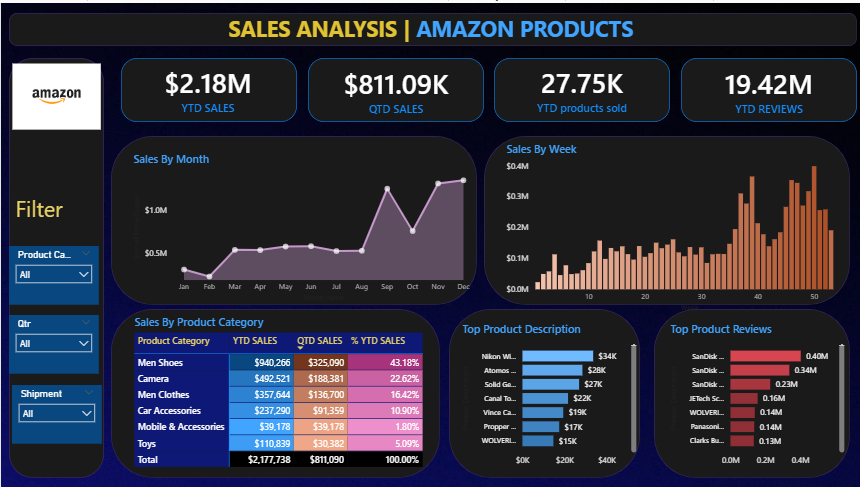

The page's visual inventory and layout, read from the dashboard file:
{"tool":"powerbi","page":{"name":"Page 1","canvas":[1280,720],"ordinal":0},"visuals":[{"type":"shape","box":[11.9,14.8,1256.3,48.9],"z":0},{"type":"textbox","box":[331.9,10.4,614.8,59.3],"z":1000},{"type":"shape","box":[11.9,81.5,140.7,622.2],"z":2000},{"type":"shape","box":[177.8,81.5,260.7,94.8],"z":3000},{"type":"card","fields":{"Values":["Amazon_Data.YTD SALES"]},"box":[176.3,80,260.7,94.8],"z":4000},{"type":"shape","box":[454.3,81.5,260.7,94.8],"z":5000},{"type":"card","fields":{"Values":["Amazon_Data.QTD SALES"]},"box":[454.8,81.5,260.7,94.8],"z":6000},{"type":"shape","box":[1007.4,81.5,260.7,94.8],"z":7000},{"type":"shape","box":[730.9,81.5,260.7,94.8],"z":8000},{"type":"card","fields":{"Values":["Amazon_Data.YTD products sold"]},"box":[730.4,80,260.7,94.8],"z":9000},{"type":"card","fields":{"Values":["Amazon_Data.YTD REVIEWS"]},"box":[1007.4,81.5,260.7,94.8],"z":10000},{"type":"shape","box":[163,197,542.2,250.4],"z":11000},{"type":"areaChart","title":"Sales By Month","fields":{"Category":["Date Table.Month name"],"Y":["Sum(Amazon_Data.Price(Dollar))"]},"box":[191.1,220.7,514.1,226.7],"z":12000},{"type":"shape","box":[715.6,197,542.2,250.4],"z":13000},{"type":"columnChart","title":"Sales By Week","fields":{"Y":["Sum(Amazon_Data.Price(Dollar))"],"Category":["Date Table.Week"]},"box":[743.7,205.9,514.1,256.3],"z":14000},{"type":"shape","box":[163,453.3,487.4,250.4],"z":15000},{"type":"pivotTable","title":"Sales By Product Category","fields":{"Rows":["Amazon_Data.Product Category"],"Values":["Amazon_Data.YTD SALES","Amazon_Data.QTD SALES","Divide(Amazon_Data.YTD SALES, ScopedEval(Amazon_Data.YTD SALES, []))"]},"box":[192.6,462.2,457.8,241.5],"z":16000},{"type":"shape","box":[663.7,453.3,283,250.4],"z":17000},{"type":"shape","box":[967.4,453.3,290.4,250.4],"z":18000},{"type":"clusteredBarChart","title":"Top Product Reviews","fields":{"Category":["Amazon_Data.Product Description"],"Y":["Amazon_Data.YTD REVIEWS"]},"box":[986.7,472.6,268.1,222.2],"z":19000},{"type":"clusteredBarChart","title":"Top Product Description","fields":{"Category":["Amazon_Data.Product Description"],"Y":["Amazon_Data.YTD SALES"]},"box":[678.5,472.6,268.1,222.2],"z":20000},{"type":"slicer","fields":{"Values":["Date Table.Qtr"]},"box":[11.9,462.2,133.3,87.4],"z":21000},{"type":"slicer","fields":{"Values":["Amazon_Data.Product Category"]},"box":[11.9,360,133.3,87.4],"z":22000},{"type":"image","box":[11.9,29.6,140.7,217.8],"z":23000},{"type":"slicer","fields":{"Values":["Amazon_Data.Shipment"]},"box":[16.3,565.9,133.3,87.4],"z":24000},{"type":"textbox","box":[16.3,277,145.2,69.6],"z":25000}]}

Visuals, with their boxes in screenshot pixels (x1, y1, x2, y2), scaled from the page's 1280x720 canvas onto the 860x489 screenshot:
shape: left=8, top=10, right=852, bottom=43
textbox: left=223, top=7, right=636, bottom=47
shape: left=8, top=55, right=103, bottom=478
shape: left=119, top=55, right=295, bottom=120
card - Amazon_Data.YTD SALES: left=118, top=54, right=294, bottom=119
shape: left=305, top=55, right=480, bottom=120
card - Amazon_Data.QTD SALES: left=306, top=55, right=481, bottom=120
shape: left=677, top=55, right=852, bottom=120
shape: left=491, top=55, right=666, bottom=120
card - Amazon_Data.YTD products sold: left=491, top=54, right=666, bottom=119
card - Amazon_Data.YTD REVIEWS: left=677, top=55, right=852, bottom=120
shape: left=110, top=134, right=474, bottom=304
"Sales By Month" areaChart: left=128, top=150, right=474, bottom=304
shape: left=481, top=134, right=845, bottom=304
"Sales By Week" columnChart: left=500, top=140, right=845, bottom=314
shape: left=110, top=308, right=437, bottom=478
"Sales By Product Category" pivotTable: left=129, top=314, right=437, bottom=478
shape: left=446, top=308, right=636, bottom=478
shape: left=650, top=308, right=845, bottom=478
"Top Product Reviews" clusteredBarChart: left=663, top=321, right=843, bottom=472
"Top Product Description" clusteredBarChart: left=456, top=321, right=636, bottom=472
slicer - Date Table.Qtr: left=8, top=314, right=98, bottom=373
slicer - Amazon_Data.Product Category: left=8, top=244, right=98, bottom=304
image: left=8, top=20, right=103, bottom=168
slicer - Amazon_Data.Shipment: left=11, top=384, right=101, bottom=444
textbox: left=11, top=188, right=109, bottom=235
